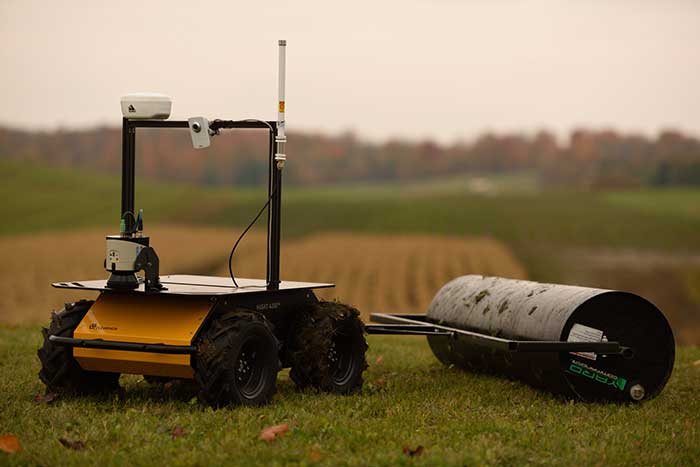husky: (36, 273, 368, 409)
